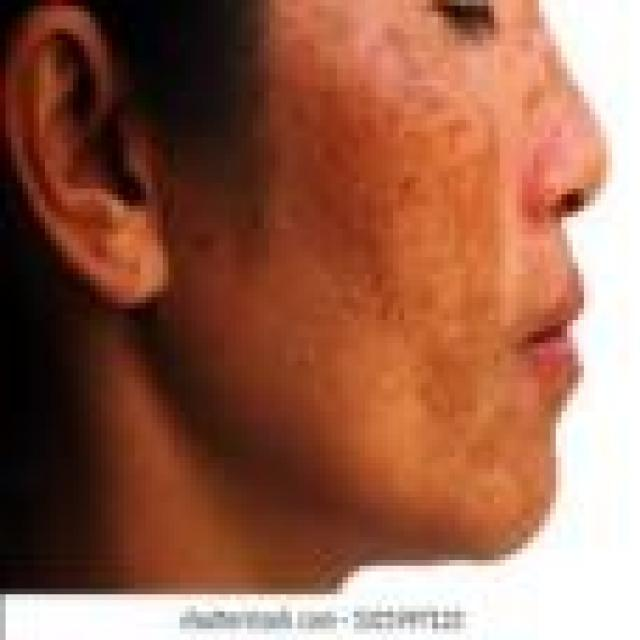Melasma: (252, 34, 473, 330)
